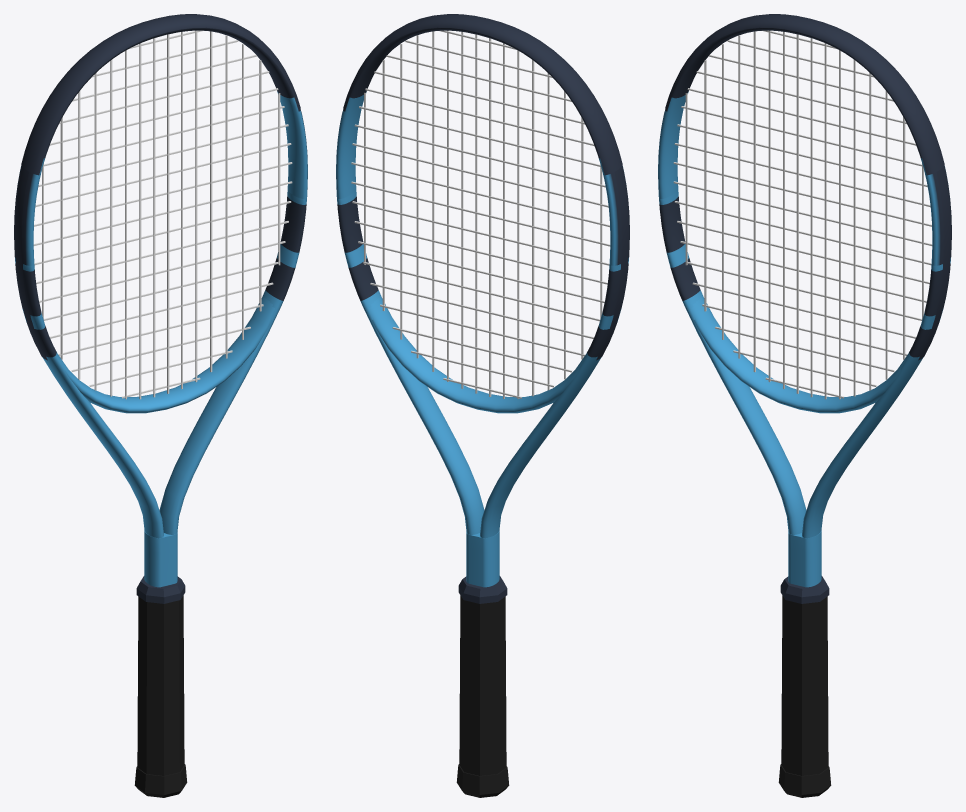
File: babolat-pure-drive-super-lite-2025.glb
3 views of the same model, side by side, from view 1: azimuth 30°, elevation 25°; view 2: azimuth 150°, elevation 25°; view 3: azimuth 330°, elevation 25° (orthographic).
Parts seen in each view (by area): view 1: frame, strings_mains, strings_crosses, grip, bumper, grommets, butt_cap, collar; view 2: frame, strings_mains, strings_crosses, grip, bumper, grommets, butt_cap, collar; view 3: frame, strings_mains, strings_crosses, grip, bumper, grommets, butt_cap, collar.
Boxes of the visible parts, x1,y1,x2,y2 form: frame: [14, 27, 307, 587]; strings_mains: [42, 30, 280, 399]; strings_crosses: [33, 30, 292, 398]; grip: [137, 595, 184, 775]; bumper: [21, 14, 300, 175]; grommets: [15, 167, 47, 360]; butt_cap: [134, 764, 187, 797]; collar: [136, 576, 185, 603]; frame: [336, 27, 629, 587]; strings_mains: [364, 30, 602, 398]; strings_crosses: [351, 30, 610, 398]; grip: [459, 595, 506, 775]; bumper: [343, 14, 622, 175]; grommets: [596, 167, 628, 360]; butt_cap: [456, 764, 509, 797]; collar: [458, 576, 507, 603]; frame: [658, 27, 951, 587]; strings_mains: [685, 30, 923, 399]; strings_crosses: [673, 30, 932, 398]; grip: [781, 595, 828, 775]; bumper: [665, 14, 944, 175]; grommets: [918, 167, 950, 360]; butt_cap: [778, 764, 831, 797]; collar: [780, 576, 829, 603].
Bounding box in the file's own units: 0.2678 × 0.6861 × 0.0396.
